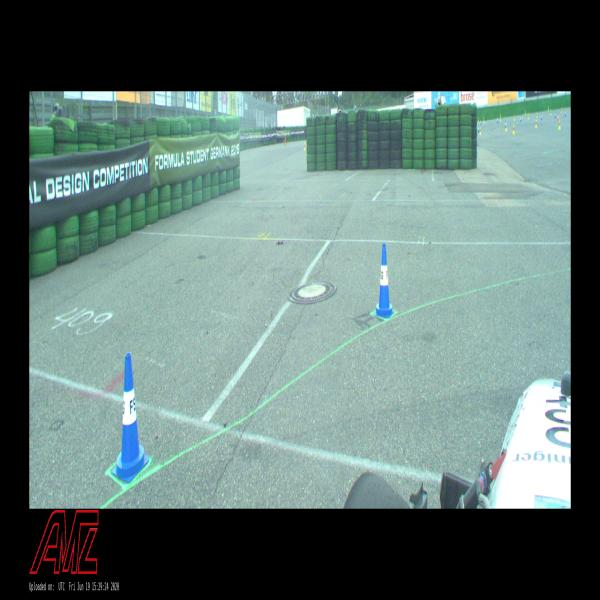blue_cone: (111, 353, 149, 483), (373, 244, 394, 318), (554, 112, 556, 118), (520, 115, 521, 122), (541, 113, 542, 120), (497, 118, 498, 124), (478, 126, 479, 132), (565, 111, 566, 116)
orange_cone: (558, 114, 559, 120)
yellow_cone: (558, 120, 561, 130), (512, 124, 514, 134), (536, 120, 538, 128), (505, 123, 507, 131), (536, 112, 538, 118), (550, 110, 552, 116), (304, 142, 305, 150), (480, 127, 481, 135), (500, 114, 501, 121), (514, 114, 515, 120), (561, 107, 562, 112), (548, 106, 549, 111), (525, 110, 526, 115), (478, 117, 479, 122), (528, 113, 528, 120), (484, 117, 484, 122)
